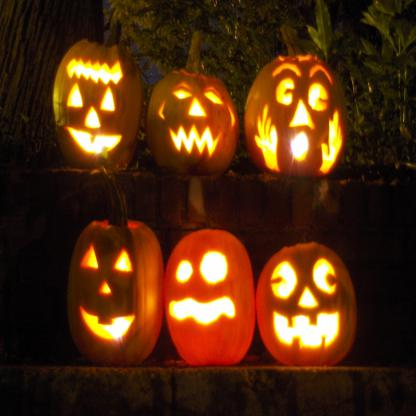Pumpkin: (68, 176, 165, 366), (244, 24, 348, 176), (144, 27, 239, 174), (163, 221, 258, 365), (255, 236, 358, 368), (52, 24, 142, 171)
